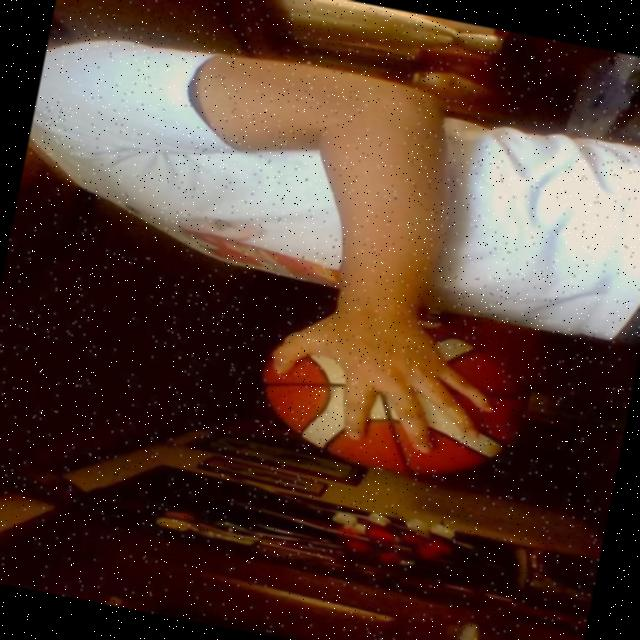ball: (259, 326, 517, 474)
